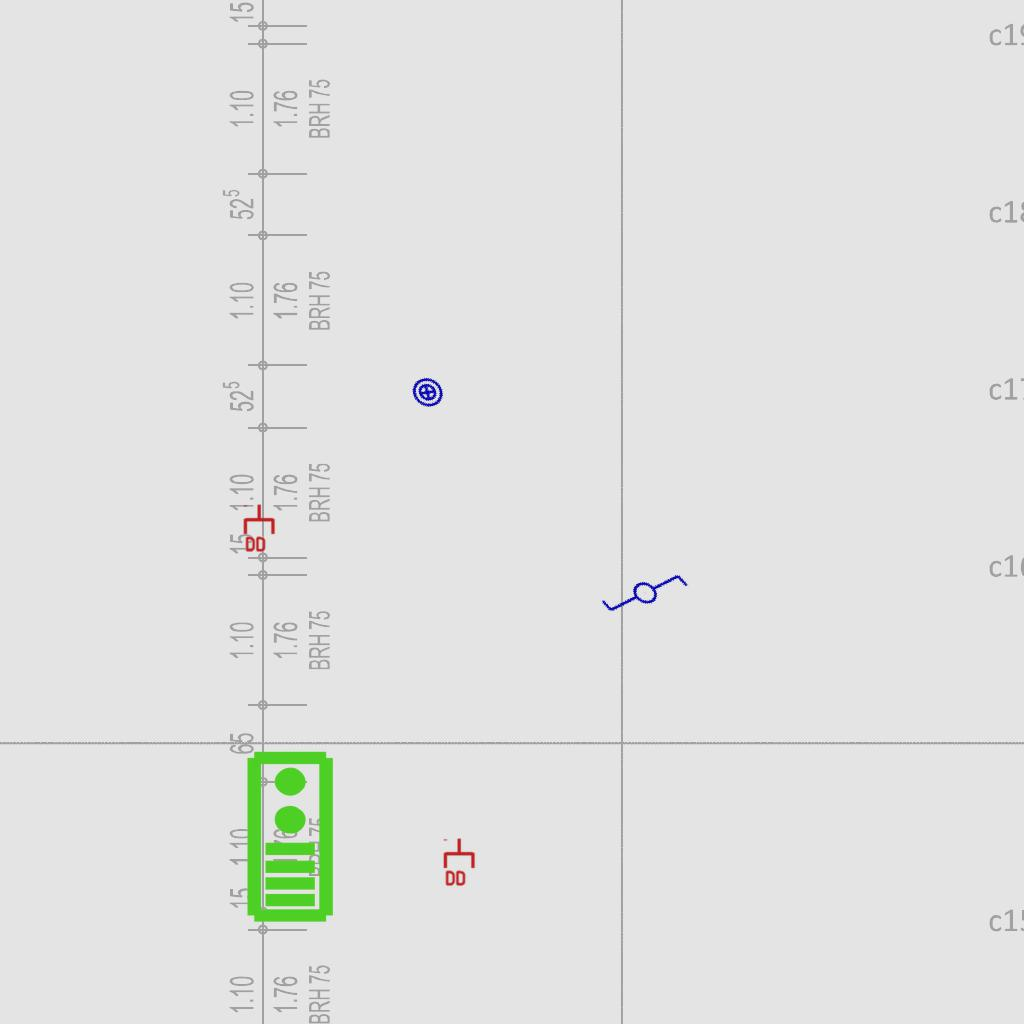Datenanschluss_zweifach: (443, 837, 477, 888), (243, 503, 277, 554)
Gegensprechanlage_mit_Video: (241, 748, 336, 924)
Taster_beleuchtet: (404, 369, 451, 416)
Wechselschalter: (596, 545, 700, 647)
